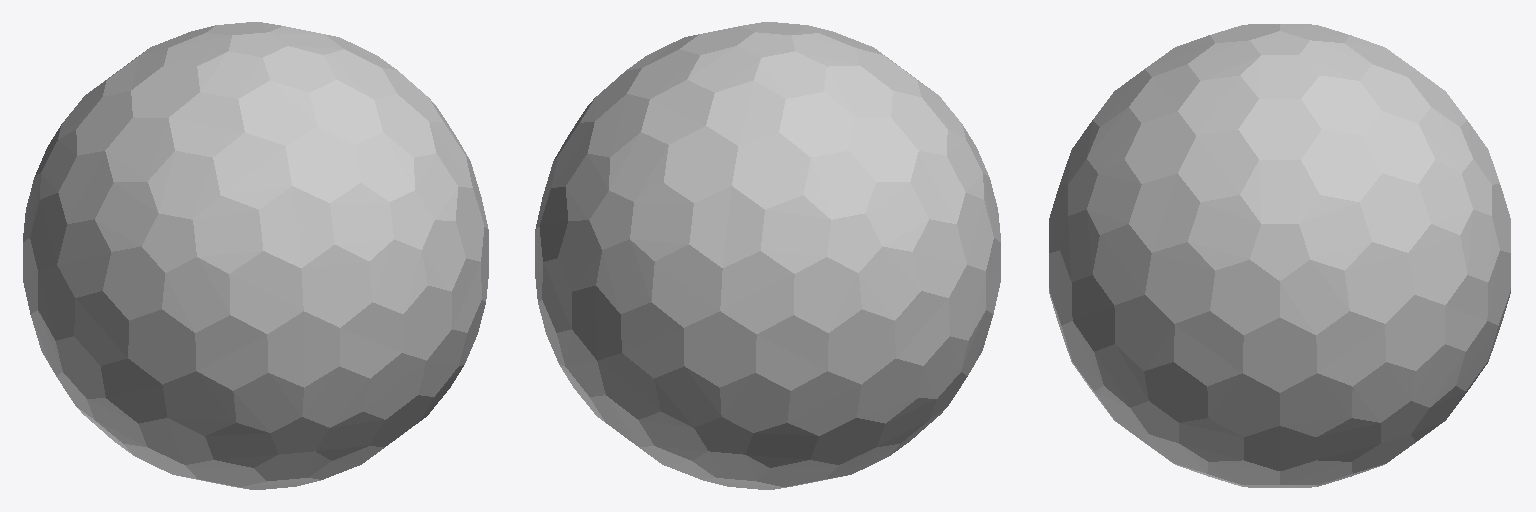
File: AdvancedShieldDomeHex.obj
3 views of the same model, side by side, from view 1: azimuth 30°, elevation 25°; view 2: azimuth 150°, elevation 25°; view 3: azimuth 270°, elevation 25° (orthographic).
Visible parts, largest first — view 1: Icosphere.002; view 2: Icosphere.002; view 3: Icosphere.002.
Boxes of the visible parts, x1,y1,x2,y2 form: Icosphere.002: [23, 22, 488, 489]; Icosphere.002: [535, 22, 1000, 489]; Icosphere.002: [1049, 24, 1510, 487].
Size of the model in its own units: 0.968 by 0.9758 by 0.9653.